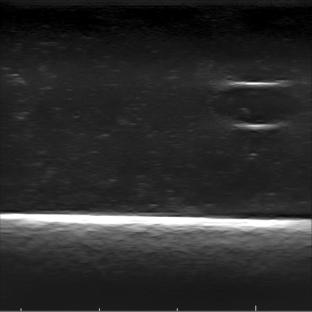vessel: (211, 81, 297, 131)
